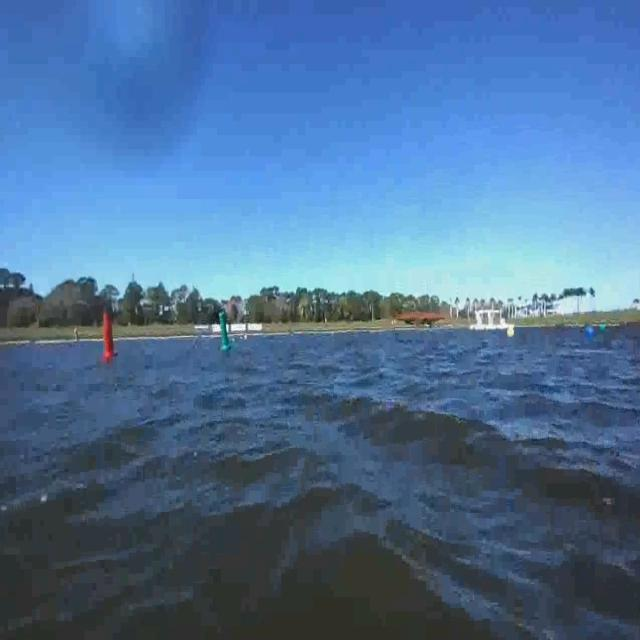green-column-buoy: (208, 301, 236, 358)
red-column-buoy: (99, 300, 120, 368)
